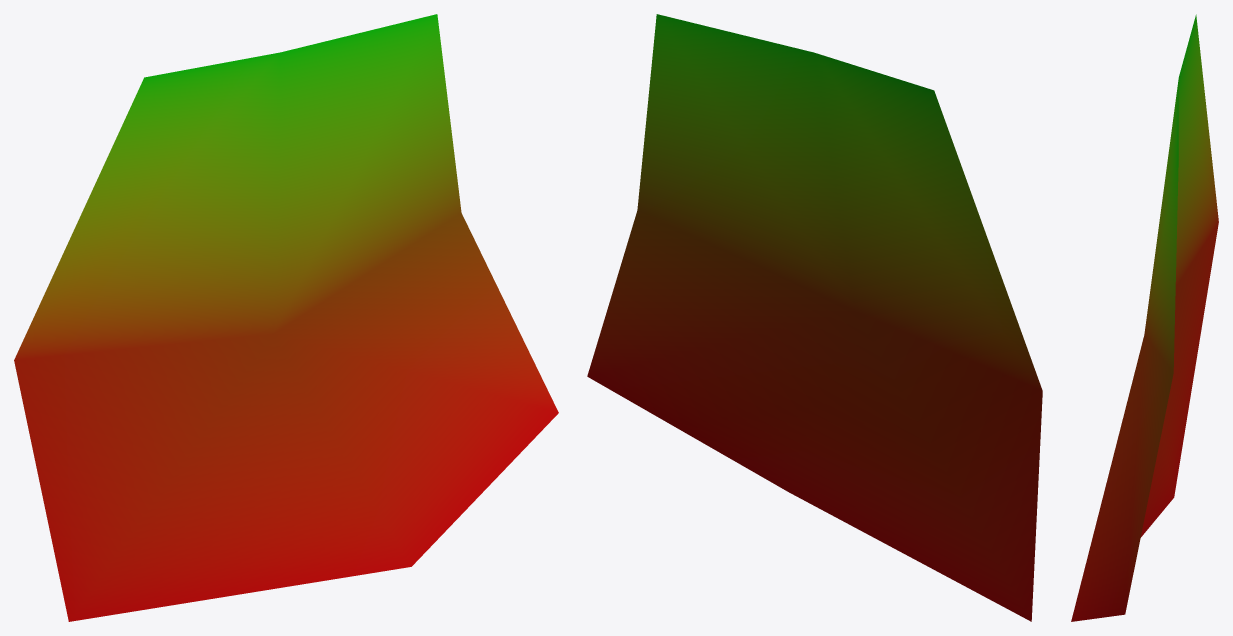
Rendered from Var11_LOD6.fbx.
3 renders of one model, left to right at view 1: azimuth 30°, elevation 25°; view 2: azimuth 150°, elevation 25°; view 3: azimuth 270°, elevation 25°, orthographic. The views are drawn at different scales.
Parts seen in each view (by area): view 1: _gjj5_Var11_LOD6; view 2: _gjj5_Var11_LOD6; view 3: _gjj5_Var11_LOD6.
Boxes of the visible parts, box(x1,y1,x2,y2) form: _gjj5_Var11_LOD6: box(14, 14, 558, 621); _gjj5_Var11_LOD6: box(587, 14, 1042, 621); _gjj5_Var11_LOD6: box(1071, 14, 1218, 621).
Size of the model in its own units: 111 by 110 by 28.01.
